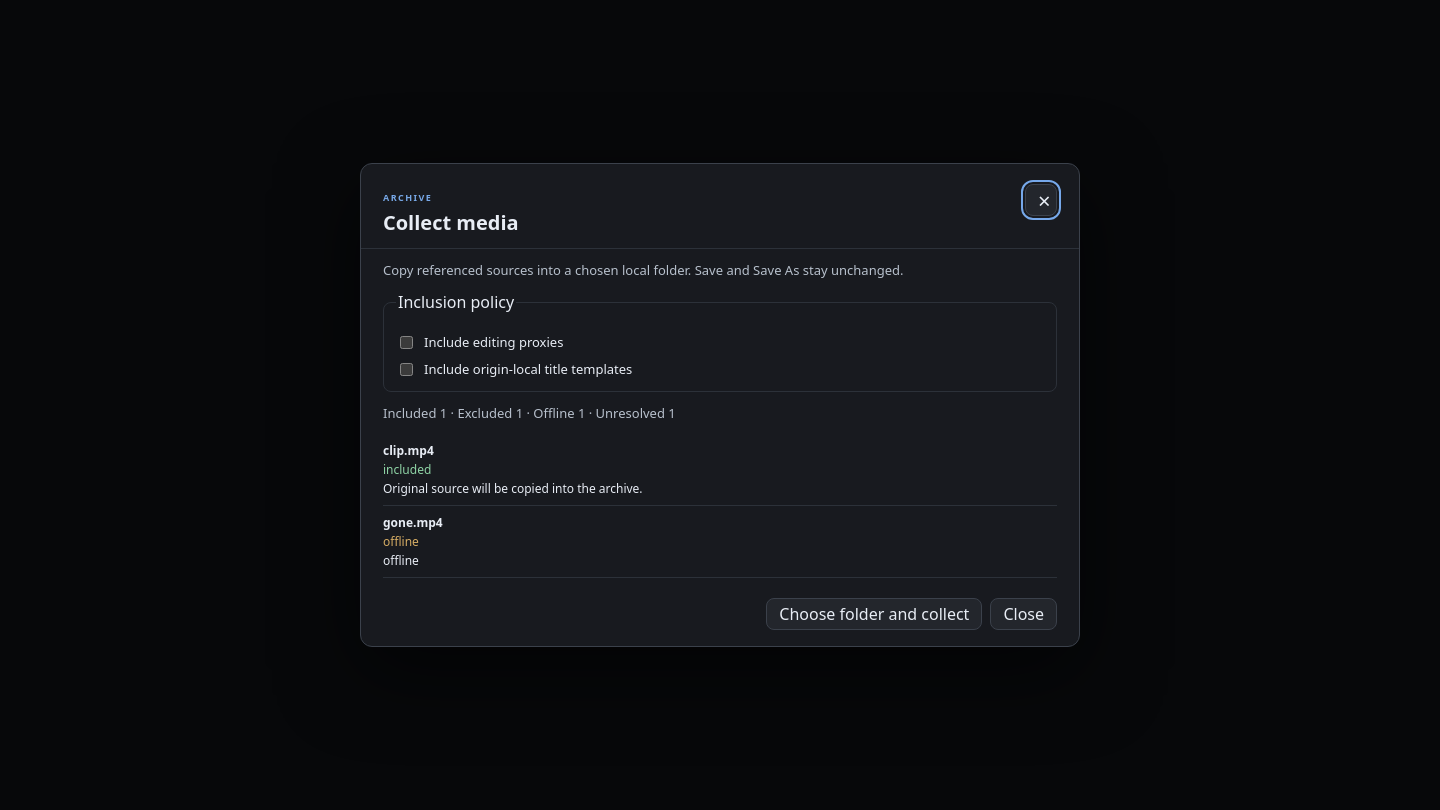
Test: CollectMediaDialog › collects into a chosen folder without claiming a partial archive is complete
This screenshot has width=1440, height=810.
Expected: the text "Included 1 · Excluded 1 · Offline 1 · Unresolved 1" is shown, [383,404,676,422]
Click the button "Choose folder and collect" at x=874, y=614, box [766,598,982,630]
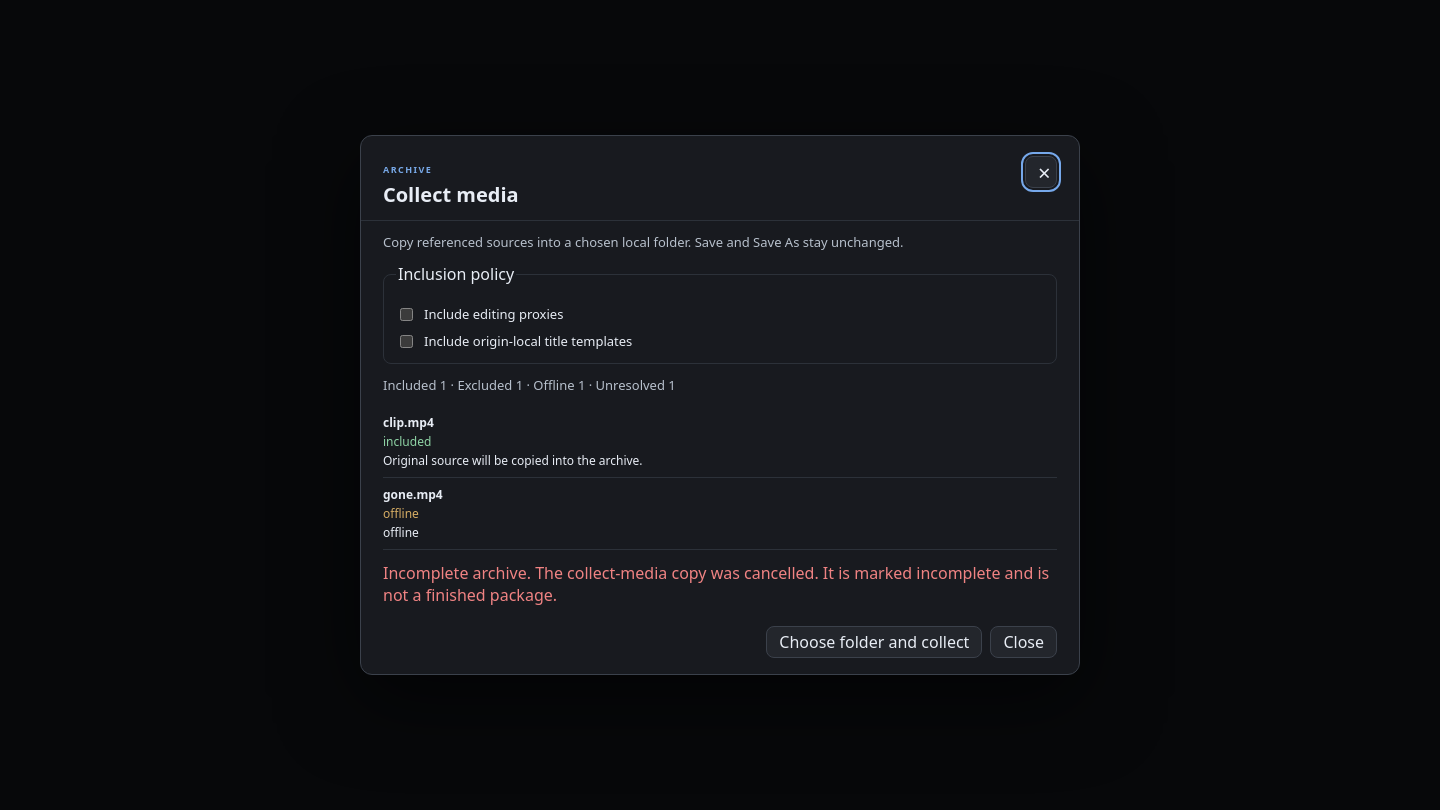
Now the message shows "Incomplete archive", box [383,562,535,584]
Now the message shows "not a finished package", box [383,562,1049,606]
